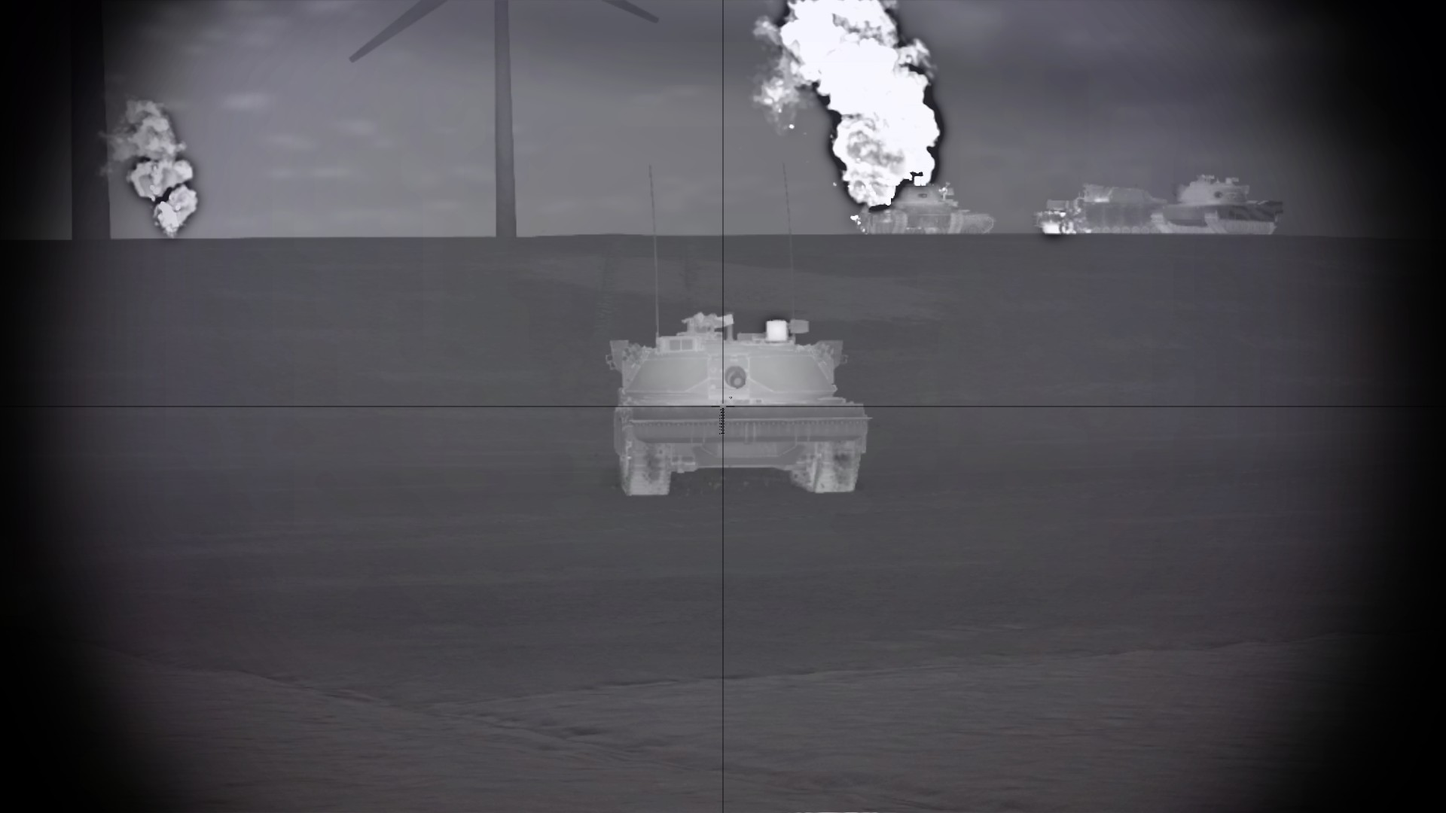abrams: (604, 311, 872, 496), (1149, 173, 1284, 235)
